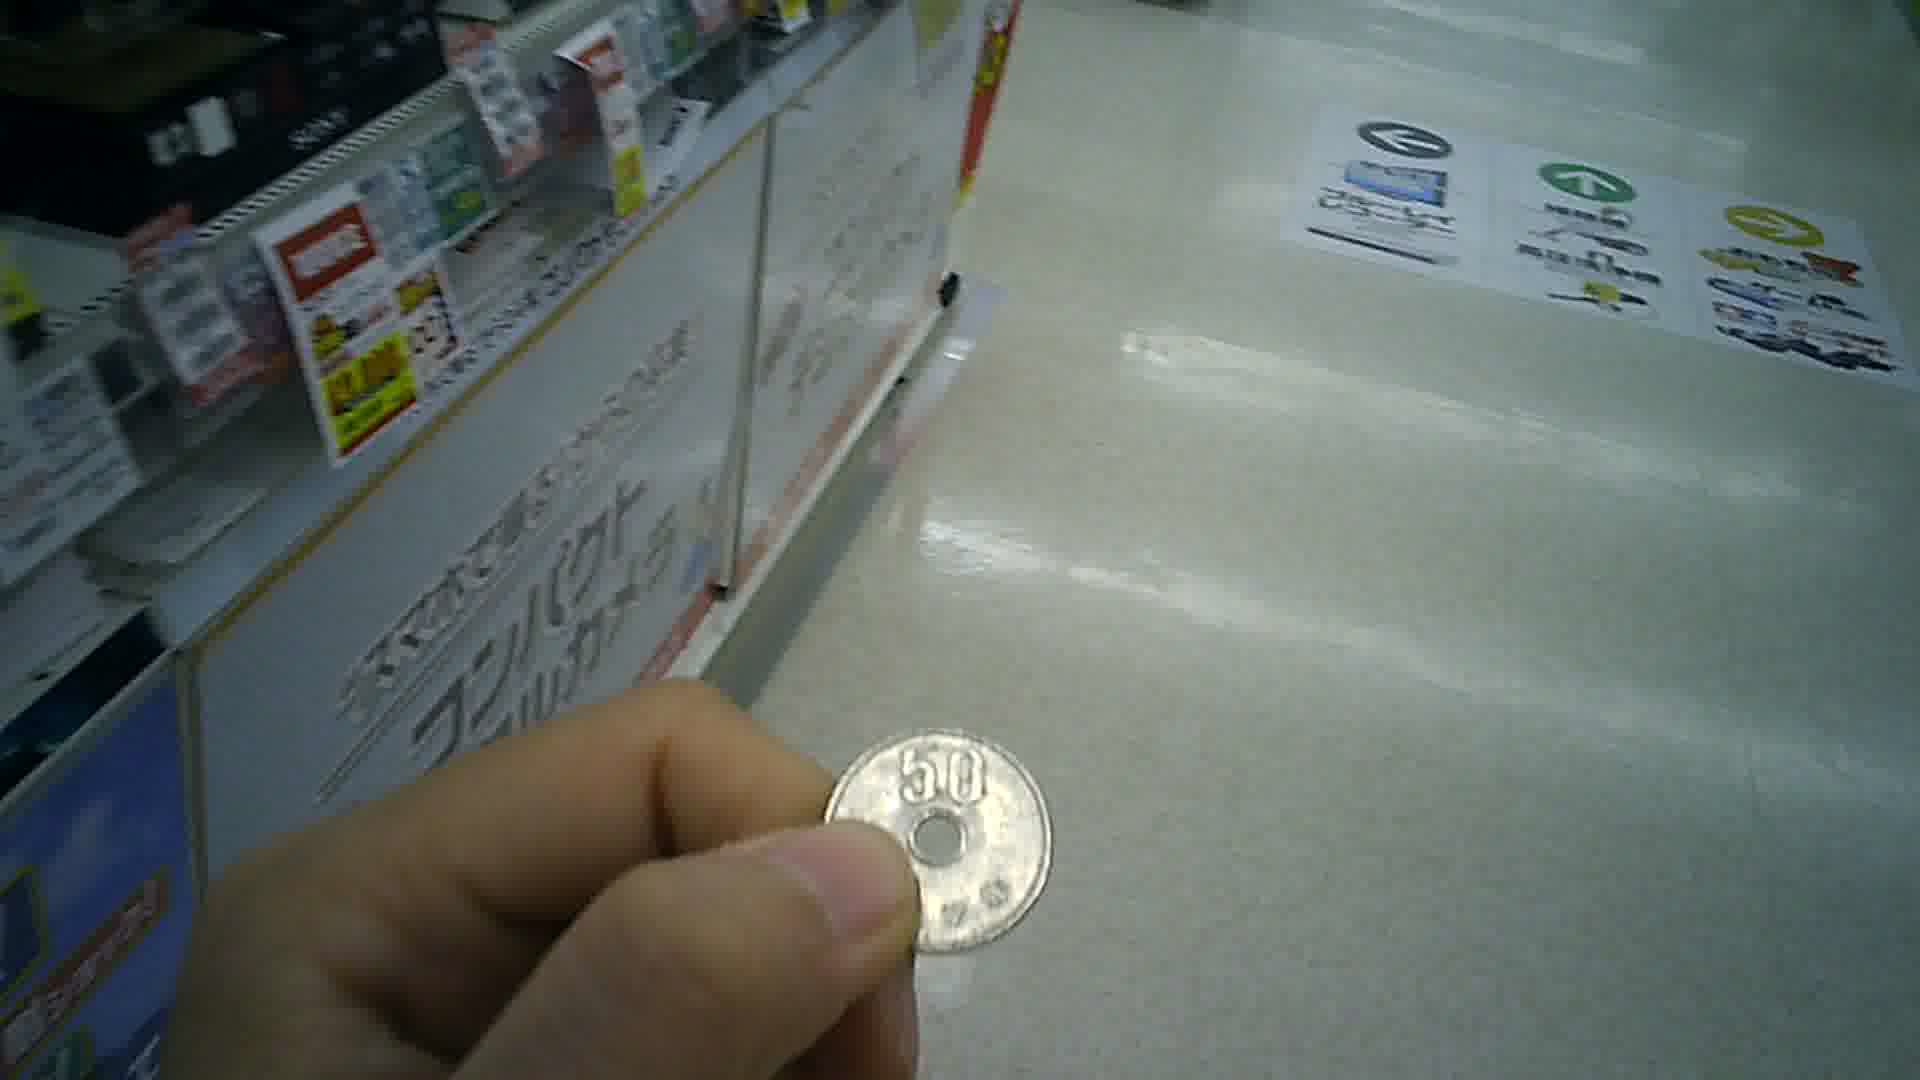50 Yen: (811, 727, 1054, 957)
